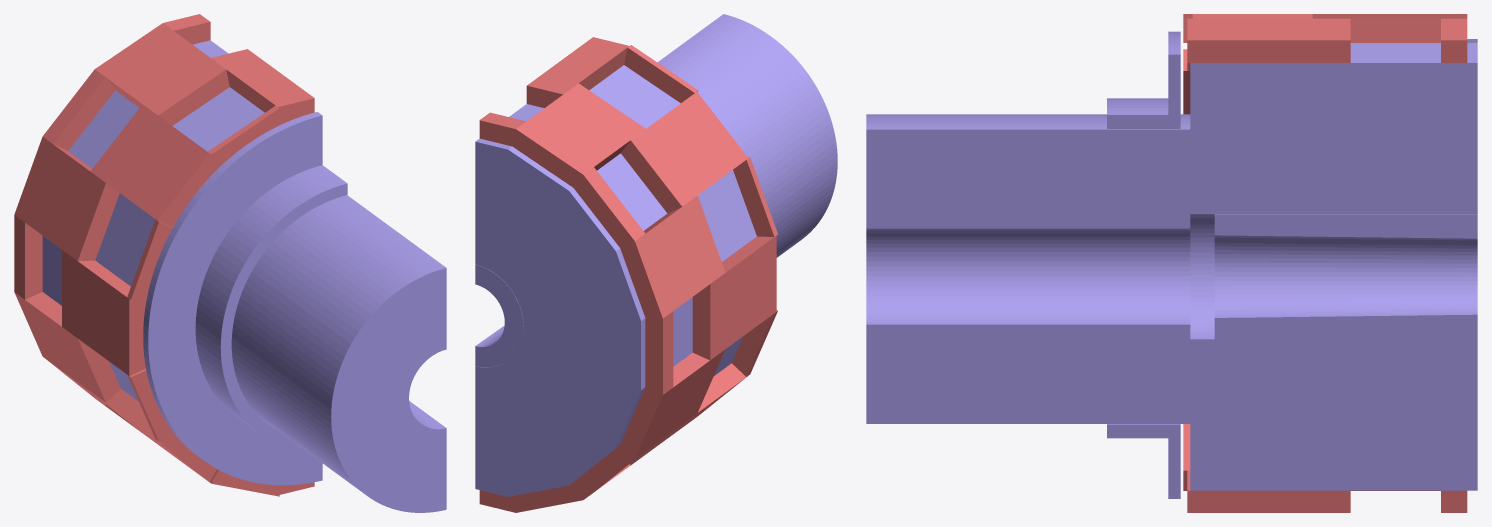
Rendered from Small-Wheel-Hub-SideA-cut2.glb.
3 renders of one model, left to right at view 1: azimuth 30°, elevation 25°; view 2: azimuth 150°, elevation 25°; view 3: azimuth 270°, elevation 25°, orthographic. The views are drawn at different scales.
Parts seen in each view (by area): view 1: null; view 2: null; view 3: null.
Boxes of the visible parts, box(x1,y1,x2,y2) form: null: box(14, 14, 446, 512); null: box(475, 14, 837, 512); null: box(866, 14, 1477, 512).
Size of the model in its own units: 0.851 by 1.7 by 2.
